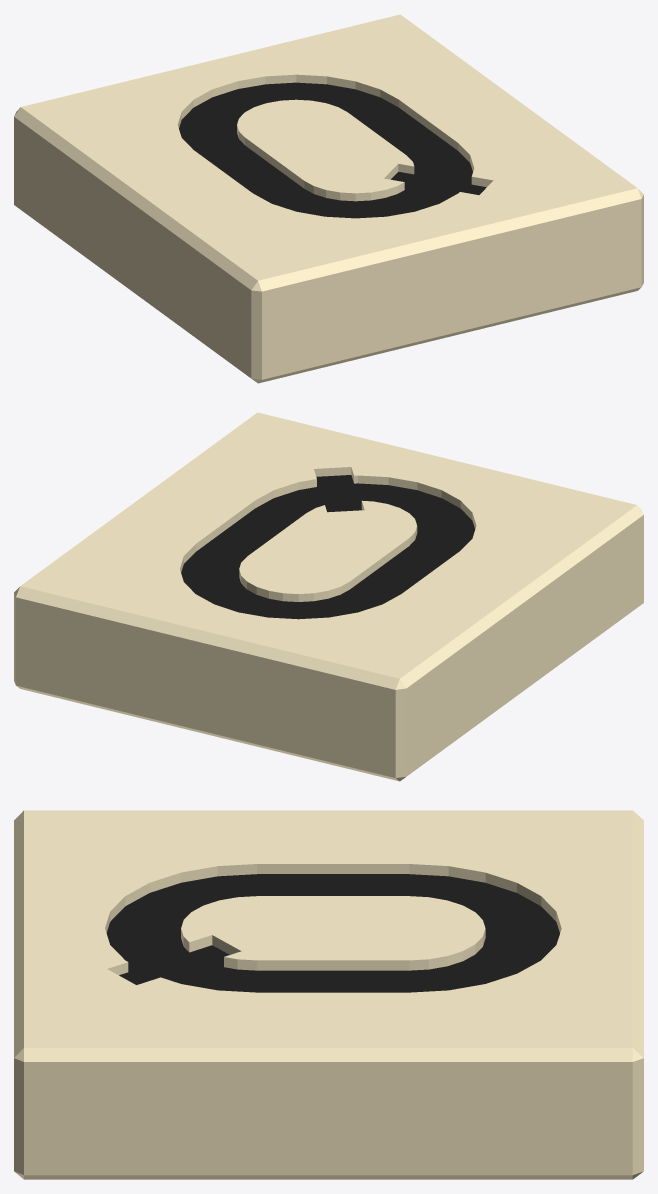
The model's file is Boardgame_Piece_Anagram_Letter_Q_01.fbx.
3 views of the same model, one above another, from view 1: azimuth 30°, elevation 25°; view 2: azimuth 150°, elevation 25°; view 3: azimuth 270°, elevation 25° (orthographic). The views are drawn at different scales.
Visible parts, largest first — view 1: Boardgame_Piece_Anagram_Letter_Q_01; view 2: Boardgame_Piece_Anagram_Letter_Q_01; view 3: Boardgame_Piece_Anagram_Letter_Q_01.
Boxes of the visible parts, box(x1,y1,x2,y2) form: Boardgame_Piece_Anagram_Letter_Q_01: box(14, 14, 643, 383); Boardgame_Piece_Anagram_Letter_Q_01: box(14, 412, 643, 781); Boardgame_Piece_Anagram_Letter_Q_01: box(14, 810, 643, 1179).
Size of the model in its own units: 1000 by 250 by 1083.
